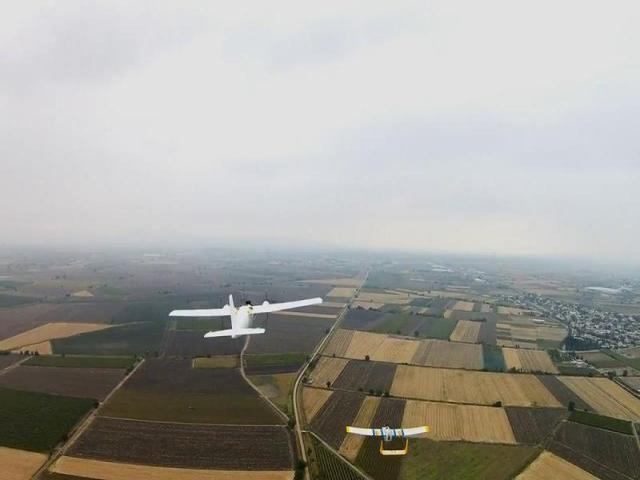hedef: (168, 280, 328, 348), (343, 411, 430, 460)
